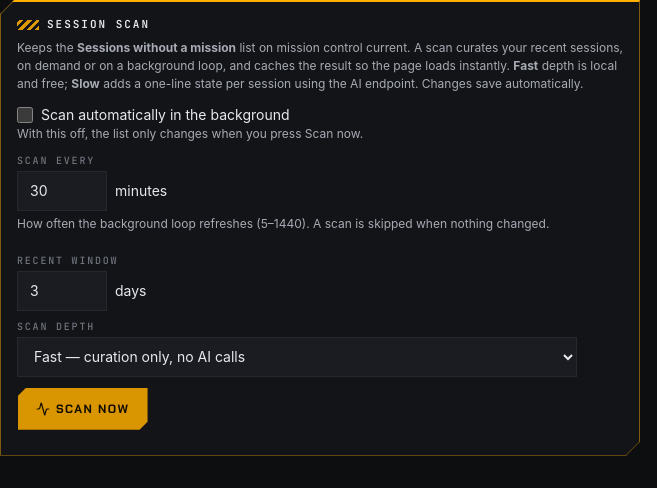
Test: a successful save flashes a Saved note and refreshes the config context
Click the checkbox labelled "Scan automatically in the background" at (25, 115), box [17,107,33,123]
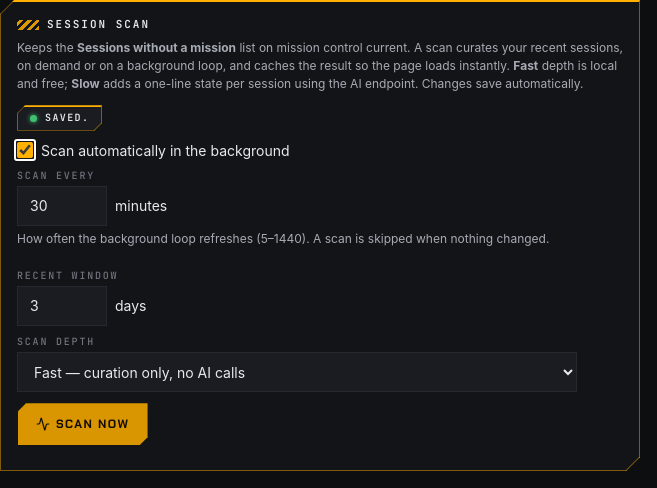
Expected: the text "Saved." is shown, [17,105,102,131]
